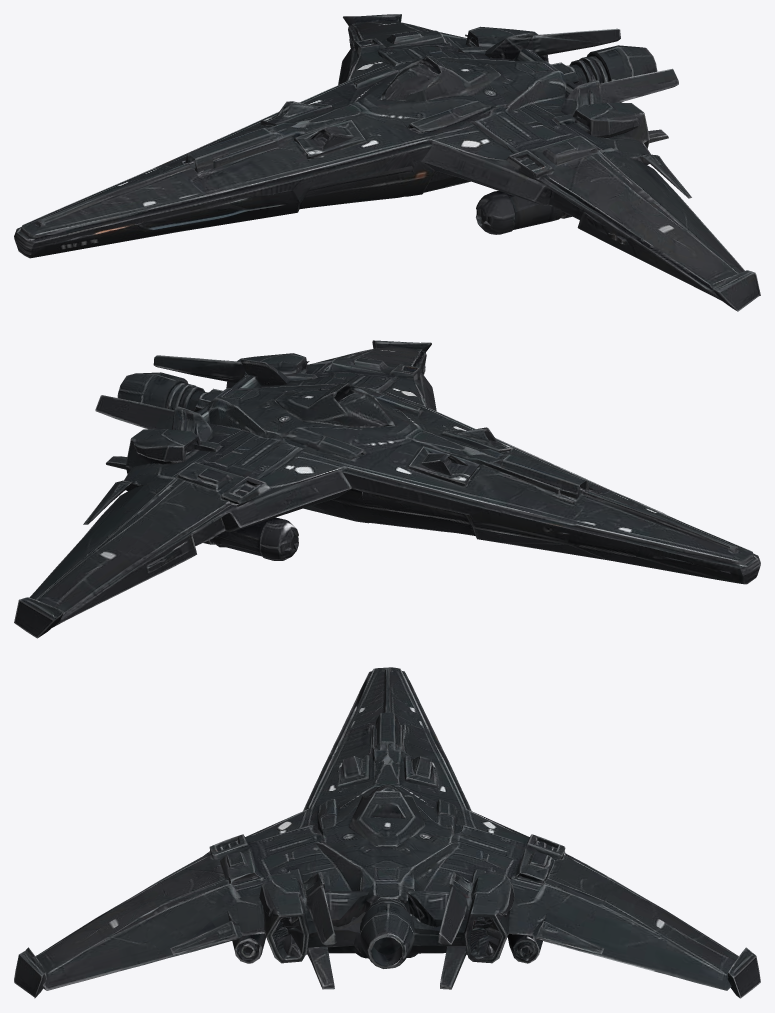
Rendered from enemy-iris-fighter.glb.
The picture shows the model from 3 angles, top to bottom: view 1: azimuth 30°, elevation 25°; view 2: azimuth 150°, elevation 25°; view 3: azimuth 270°, elevation 25°; orthographic projection. The views are drawn at different scales.
Size of the model in its own units: 1.8 by 0.3842 by 1.9.
1 material, 1 textured.
